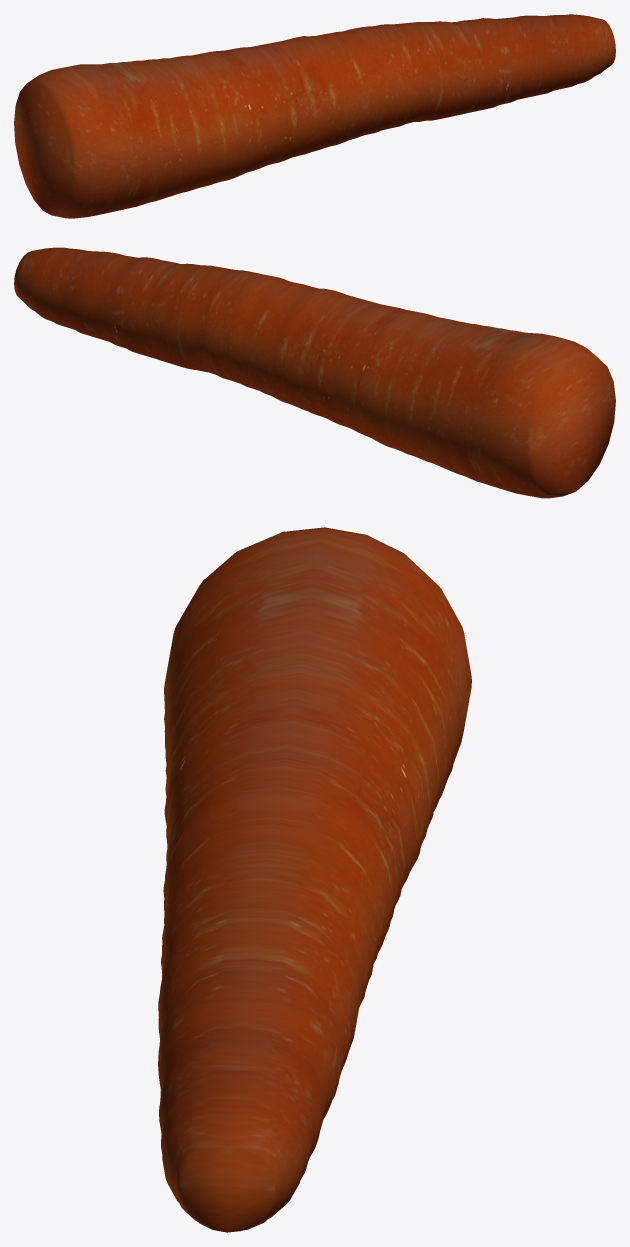
The model's file is fixedcarrot.obj.
3 renders of one model, top to bottom at view 1: azimuth 30°, elevation 25°; view 2: azimuth 150°, elevation 25°; view 3: azimuth 270°, elevation 25°, orthographic. The views are drawn at different scales.
Visible parts, largest first — view 1: Mesh; view 2: Mesh; view 3: Mesh.
Boxes of the visible parts, x1,y1,x2,y2 form: Mesh: [14, 14, 615, 218]; Mesh: [14, 247, 615, 498]; Mesh: [158, 527, 471, 1232].
Size of the model in its own units: 19.31 by 4.71 by 4.82.
Materials: 1 (1 with a texture image).
